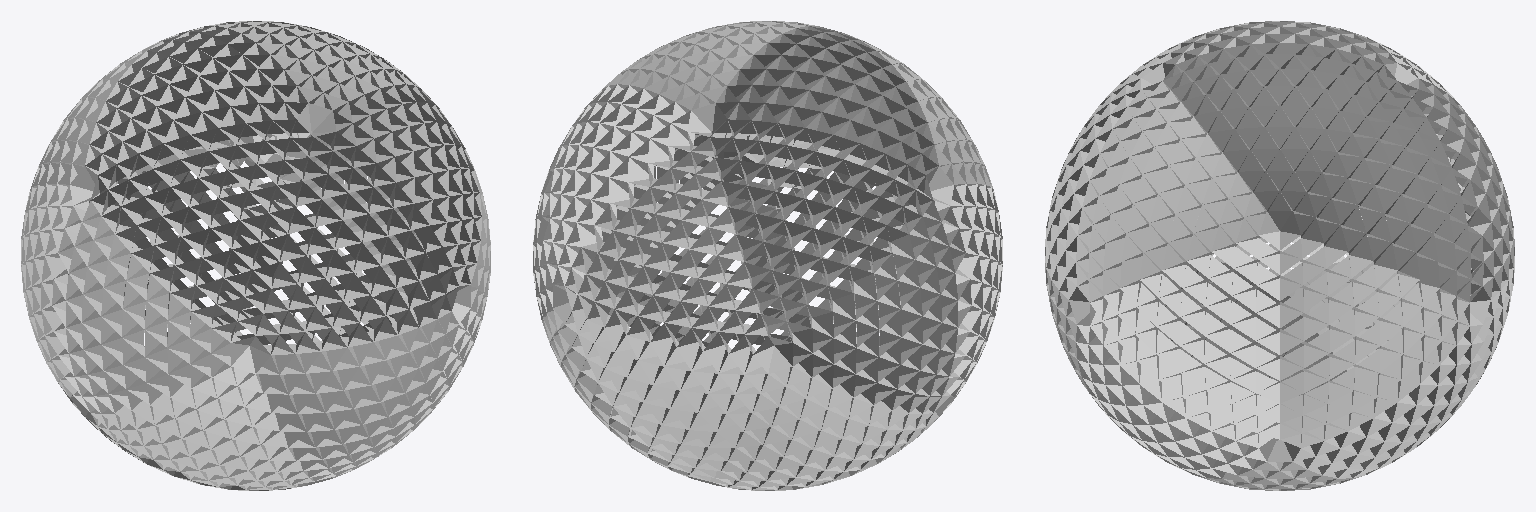
Rendered from ball.obj.
3 renders of one model, left to right at view 1: azimuth 30°, elevation 25°; view 2: azimuth 150°, elevation 25°; view 3: azimuth 270°, elevation 25°, orthographic.
Visible parts, largest first — view 1: Mesh1 Group1 Model; view 2: Mesh1 Group1 Model; view 3: Mesh1 Group1 Model.
Part boxes in pixels (bbox=[...]): Mesh1 Group1 Model: bbox=[21, 21, 490, 490]; Mesh1 Group1 Model: bbox=[533, 21, 1002, 490]; Mesh1 Group1 Model: bbox=[1045, 21, 1514, 490].
Bounding box in the file's own units: 3168 × 3168 × 3168.